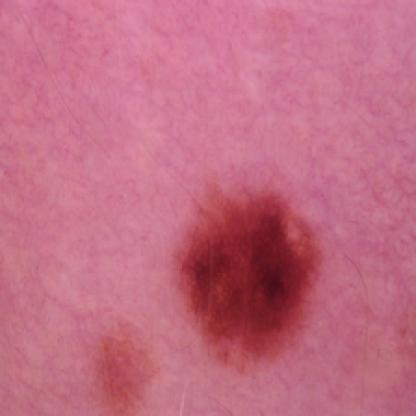benign: (182, 186, 332, 373)
